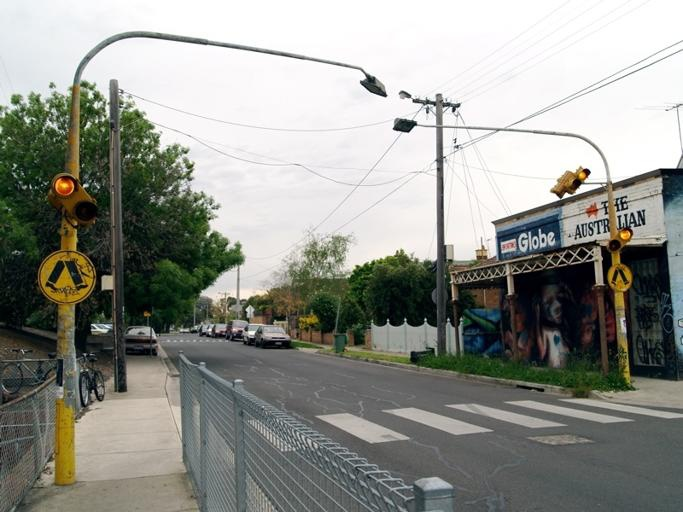non-vehicle: (0, 344, 57, 394), (77, 349, 104, 408)
